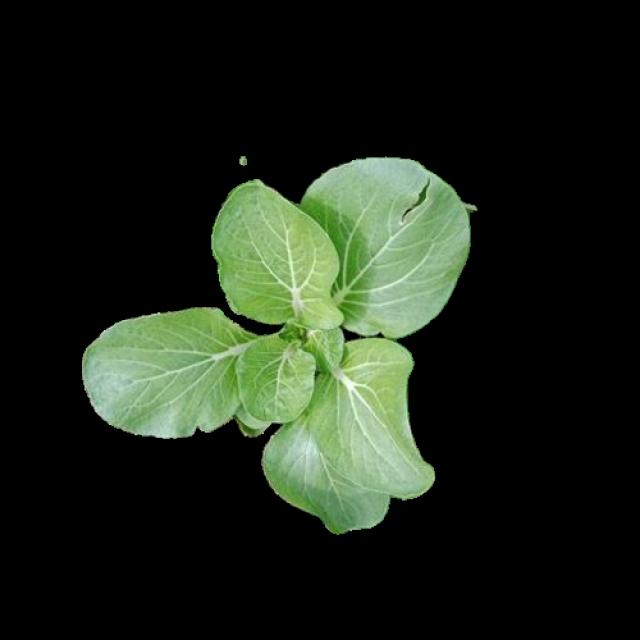not-mature: (84, 154, 472, 536)
unhealthy: (298, 155, 472, 335)
